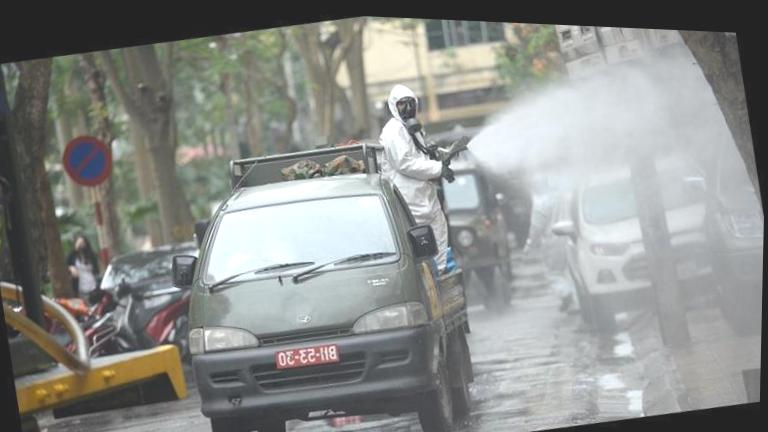License_Plate: (273, 338, 344, 380)
